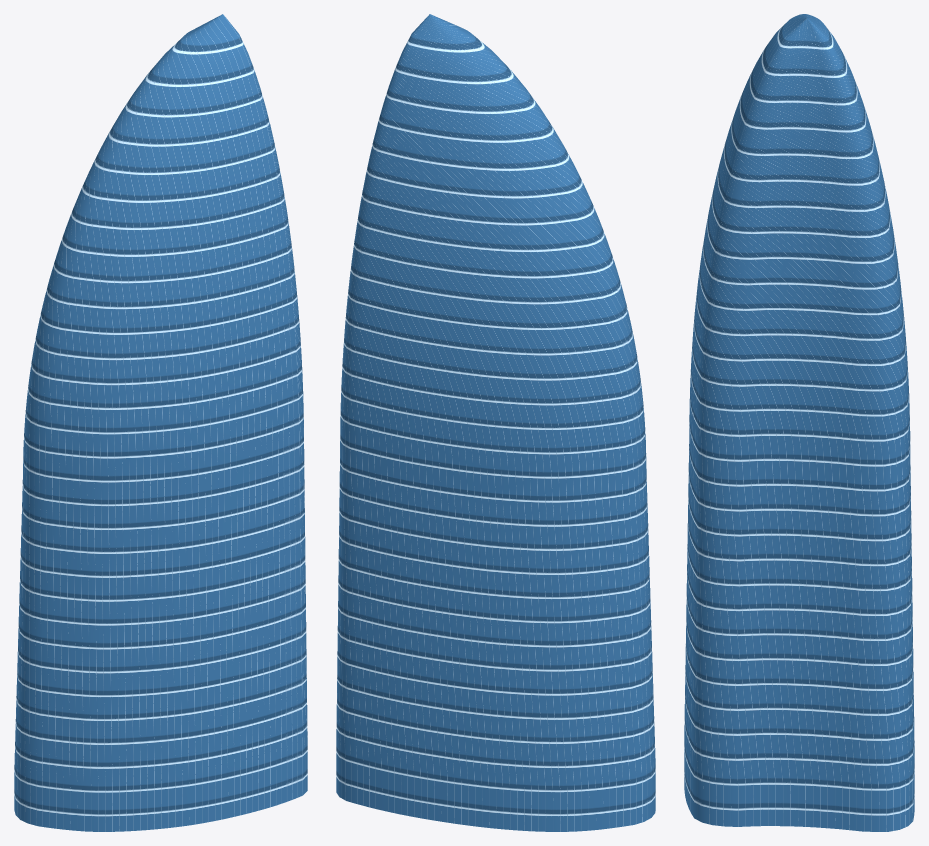
Rendered from landmark-flame-tower-2.glb.
3 views of the same model, side by side, from view 1: azimuth 30°, elevation 25°; view 2: azimuth 150°, elevation 25°; view 3: azimuth 270°, elevation 25° (orthographic). The views are drawn at different scales.
Parts seen in each view (by area): view 1: flame-tower-2; view 2: flame-tower-2; view 3: flame-tower-2.
Boxes of the visible parts, left/top/right/bottom form: flame-tower-2: left=14, top=14, right=307, bottom=831; flame-tower-2: left=336, top=14, right=655, bottom=831; flame-tower-2: left=684, top=14, right=914, bottom=831.
Size of the model in its own units: 64.21 by 174 by 46.27.
1 material, 1 textured.
